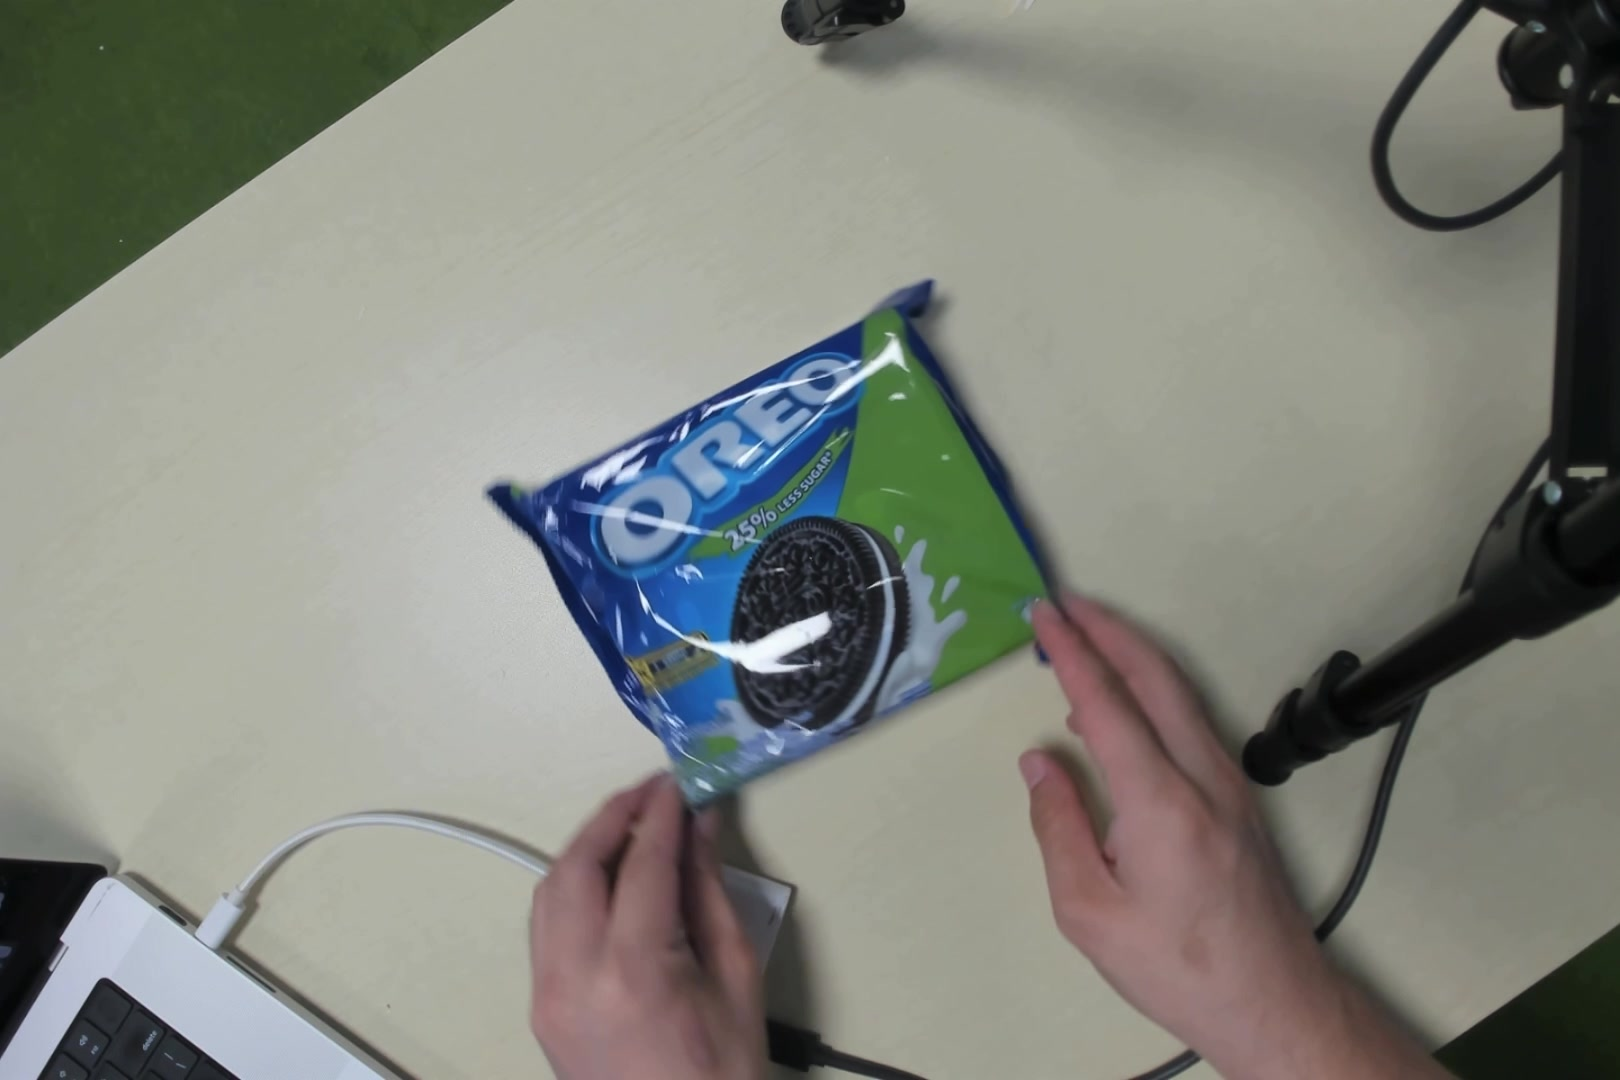SweetsChocolatesOthers_200-299g_Halal_NonHealthy: (570, 319, 1012, 783)
